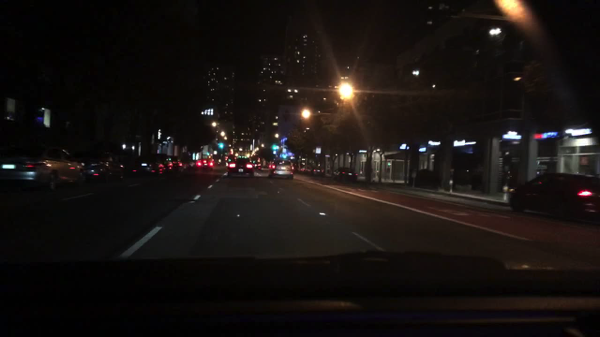car: (509, 171, 598, 228), (0, 140, 86, 194), (81, 154, 126, 183), (132, 153, 165, 177), (227, 157, 256, 179), (267, 159, 296, 180), (333, 166, 358, 184), (156, 152, 177, 173), (195, 158, 212, 171), (169, 156, 183, 171), (224, 154, 237, 165), (311, 166, 325, 176), (305, 165, 318, 174), (184, 160, 196, 169), (251, 161, 262, 169), (211, 159, 222, 167), (300, 164, 309, 173)
traffic light: (219, 141, 224, 150), (272, 144, 277, 152)
traffic sign: (5, 98, 16, 122), (43, 108, 52, 128), (37, 108, 44, 126), (411, 169, 416, 178), (316, 146, 321, 154), (450, 169, 454, 177)
